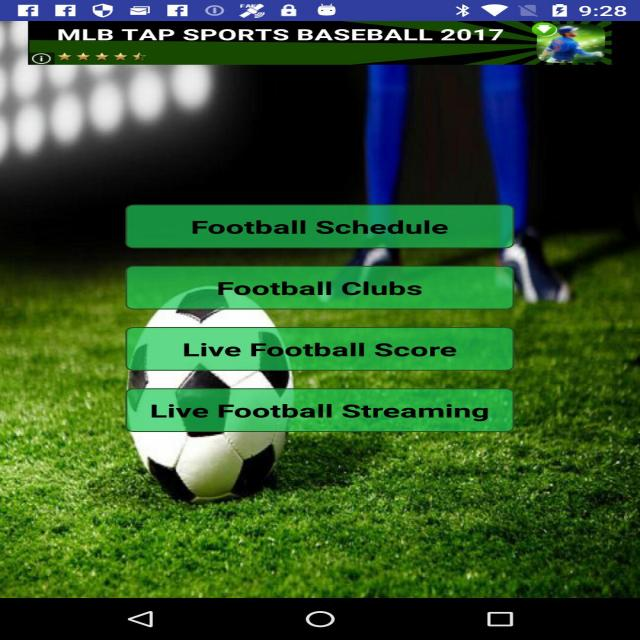button: (110, 192, 525, 430)
icon: (521, 19, 629, 73)
image: (32, 73, 640, 598)
text: (46, 24, 516, 44)
